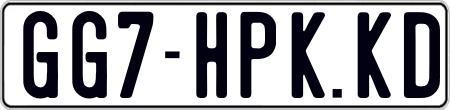7: (117, 11, 153, 103)
D: (402, 11, 431, 97)
G: (69, 9, 108, 97), (22, 11, 61, 98)
H: (193, 10, 230, 96)
K: (355, 10, 392, 96), (289, 9, 324, 97)
P: (237, 10, 275, 96)
